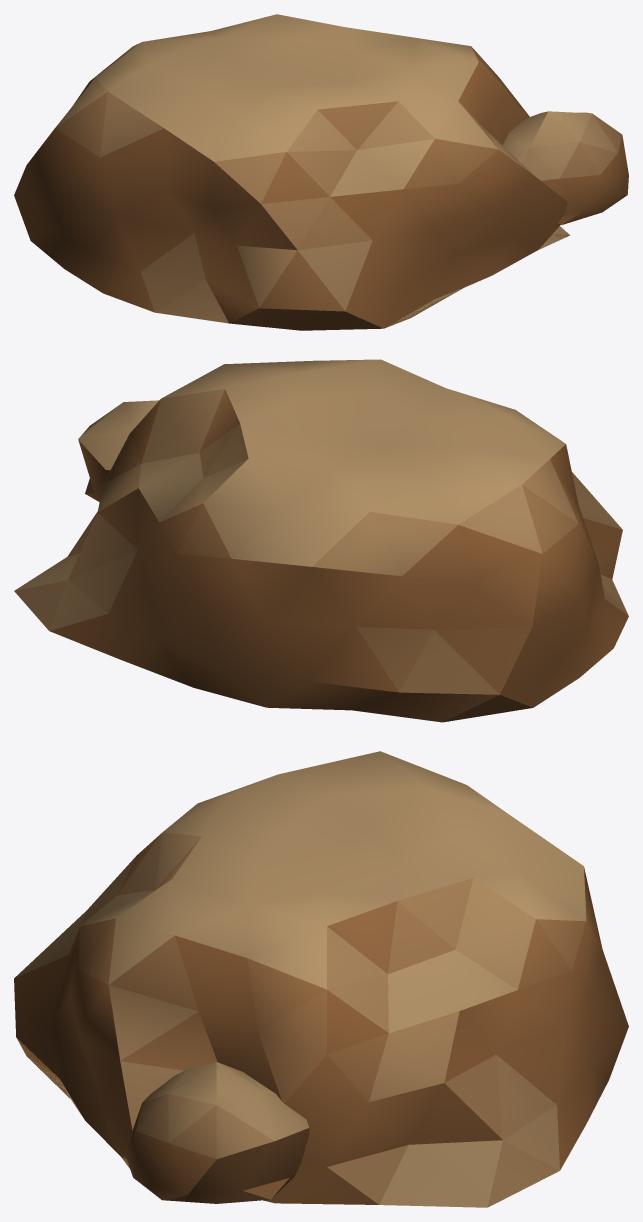
Rendered from desert_rock_b.glb.
The picture shows the model from 3 angles, top to bottom: view 1: azimuth 30°, elevation 25°; view 2: azimuth 150°, elevation 25°; view 3: azimuth 270°, elevation 25°; orthographic projection. The views are drawn at different scales.
Visible parts, largest first — view 1: desert_rock_b; view 2: desert_rock_b; view 3: desert_rock_b.
Boxes of the visible parts, left/top/right/bottom form: desert_rock_b: left=14, top=14, right=628, bottom=330; desert_rock_b: left=14, top=359, right=628, bottom=722; desert_rock_b: left=14, top=751, right=628, bottom=1207.
Size of the model in its own units: 1.72 by 0.5359 by 1.45.
